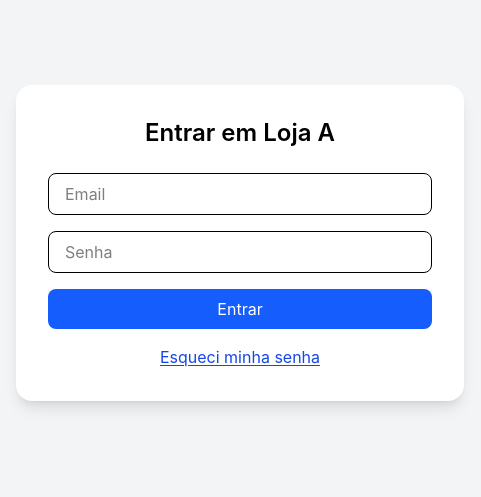
Test case: LoginPage › rejects malformed recovery email before sending a request
The width and height of the screenshot is (481, 497).
In the field labelled "Email": coordinates (240, 194) [48, 173, 432, 215], type "invalid"
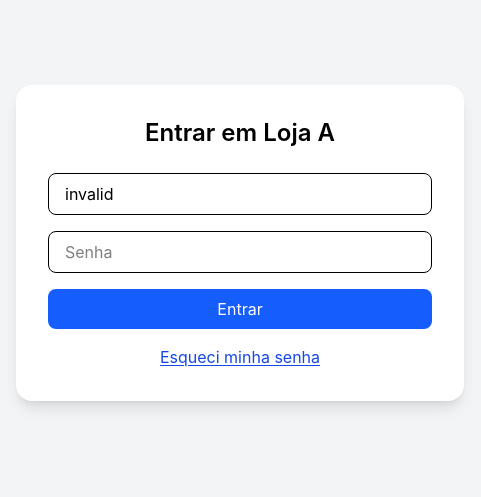
Click the button "Esqueci minha senha": coordinates (240, 357) [48, 345, 432, 369]
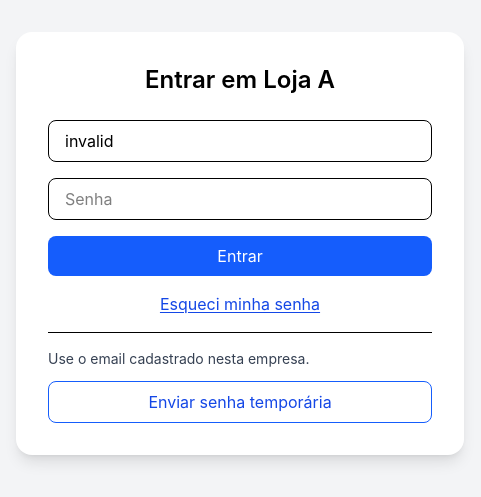
Click the button "Enviar senha temporária": coordinates (240, 402) [48, 380, 432, 422]
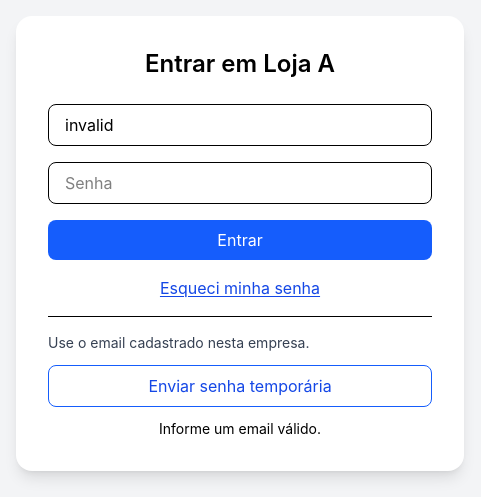
Result: the message reads "Informe um email válido." at [159, 420, 321, 436]
